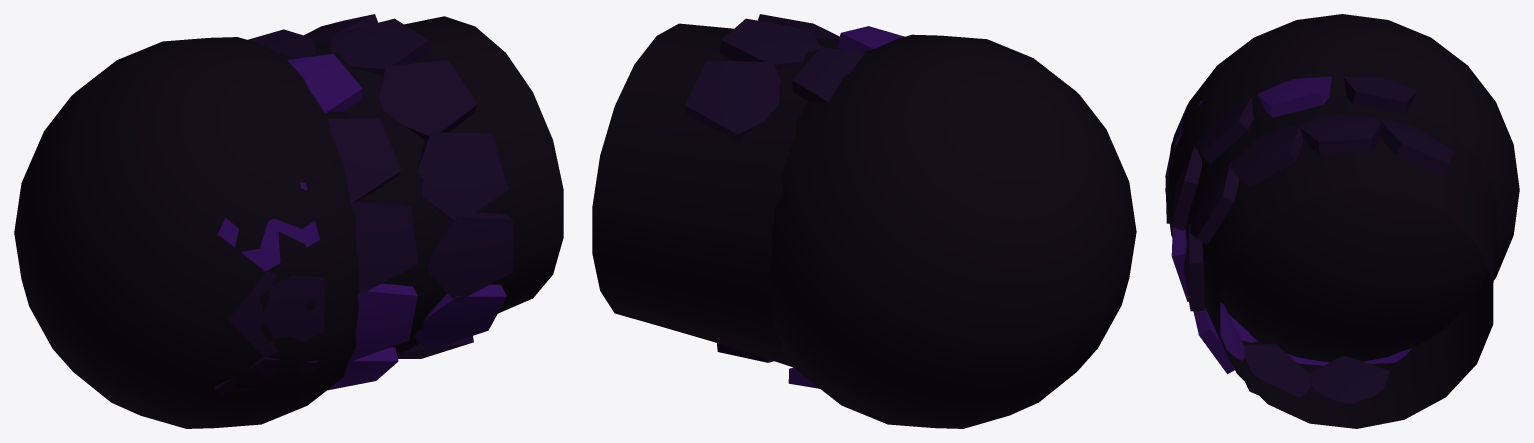
The model's file is coxa.obj.
3 renders of one model, left to right at view 1: azimuth 30°, elevation 25°; view 2: azimuth 150°, elevation 25°; view 3: azimuth 270°, elevation 25°, orthographic. The views are drawn at different scales.
Parts seen in each view (by area): view 1: coxa; view 2: coxa; view 3: coxa.
Part boxes in pixels (bbox=[...]): coxa: bbox=[14, 14, 563, 428]; coxa: bbox=[592, 14, 1136, 428]; coxa: bbox=[1165, 14, 1519, 428].
Size of the model in its own units: 0.0654 by 0.0493 by 0.0493.
